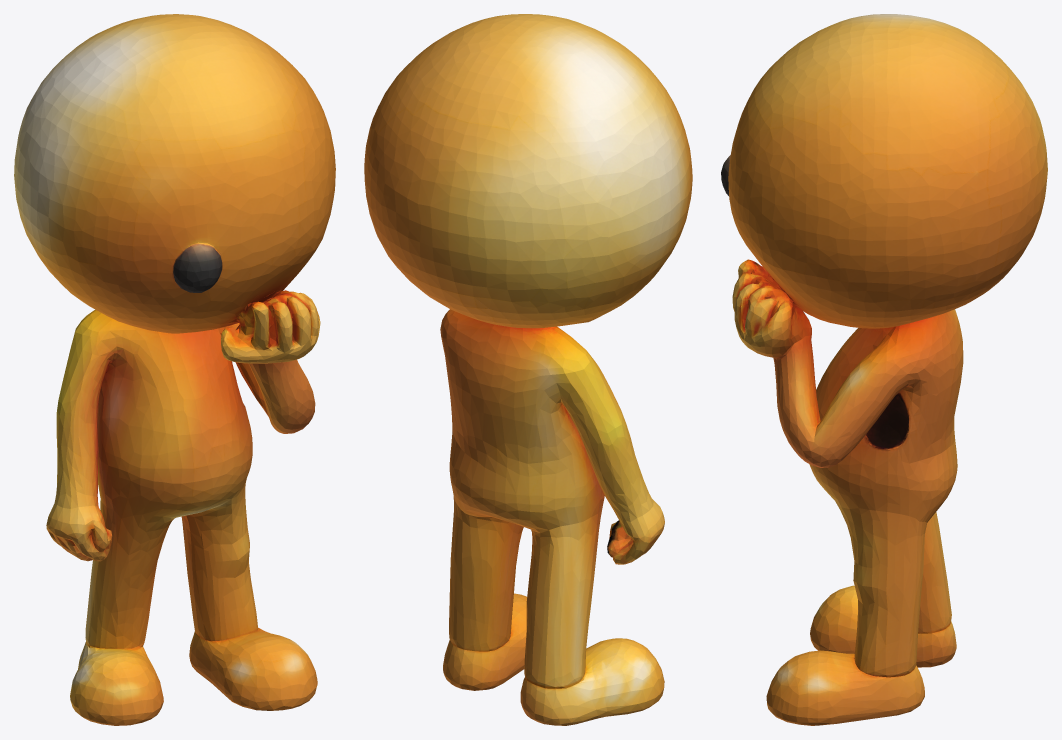
The model's file is character.glb.
3 views of the same model, side by side, from view 1: azimuth 30°, elevation 25°; view 2: azimuth 150°, elevation 25°; view 3: azimuth 270°, elevation 25° (orthographic).
Parts seen in each view (by area): view 1: world; view 2: world; view 3: world.
Boxes of the visible parts, x1,y1,x2,y2 form: world: (14,14,335,725); world: (364,14,692,725); world: (721,14,1047,725).
Size of the model in its own units: 0.4489 by 0.9998 by 0.4544.
Materials: 1 (1 with a texture image).
